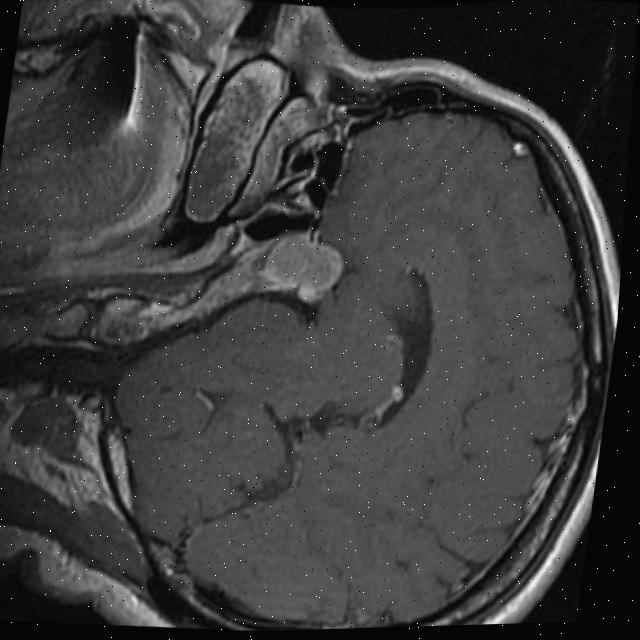Pituitary: (254, 228, 347, 308)
